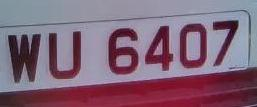0: (174, 17, 212, 72)
4: (140, 19, 177, 77)
6: (104, 23, 143, 80)
7: (208, 16, 246, 70)
U: (44, 25, 88, 86)
W: (4, 27, 44, 89)
